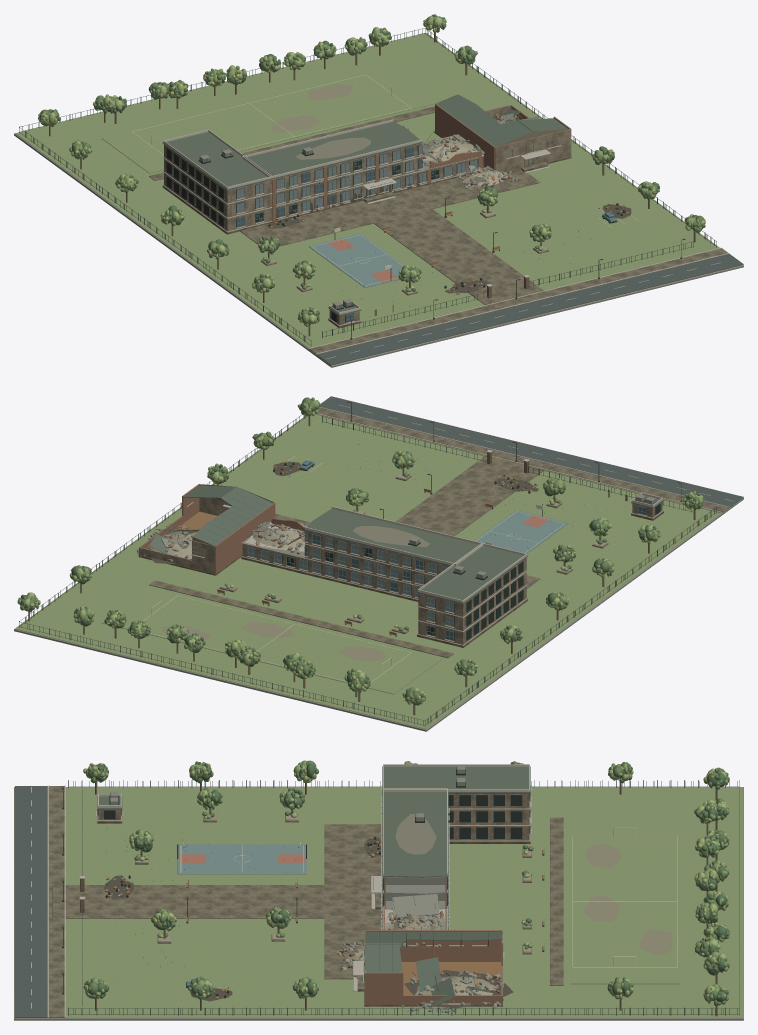
Rendered from school-abandoned.glb.
3 renders of one model, top to bottom at view 1: azimuth 30°, elevation 25°; view 2: azimuth 150°, elevation 25°; view 3: azimuth 270°, elevation 25°, orthographic. The views are drawn at different scales.
Visible parts, largest first — view 1: 材质批次_grass, 材质批次_plaza_paving, 材质批次_sage_metal_roof, 材质批次_limestone, 材质批次_asphalt, 材质批次_warm_cream_trim, 材质批次_poi_service_concrete, 材质批次_street_metal, 材质批次_leaf_2, 材质批次_leaf_0, 材质批次_leaf_1, 材质批次_recess_shadow (+13 smaller); view 2: 材质批次_grass, 材质批次_plaza_paving, 材质批次_sage_metal_roof, 材质批次_limestone, 材质批次_asphalt, 材质批次_warm_cream_trim, 材质批次_street_metal, 材质批次_poi_service_concrete, 材质批次_leaf_1, 材质批次_leaf_2, 材质批次_leaf_0, 材质批次_recess_shadow (+14 smaller); view 3: 材质批次_grass, 材质批次_plaza_paving, 材质批次_sage_metal_roof, 材质批次_poi_service_concrete, 材质批次_asphalt, 材质批次_poi_brick_red, 材质批次_warm_cream_trim, 材质批次_street_metal, 材质批次_leaf_1, 材质批次_leaf_3, 材质批次_school_court, 材质批次_limestone (+12 smaller).
Part boxes in pixels (x1,y1,x2,y2): 材质批次_grass: (15,33,719,348); 材质批次_plaza_paving: (149,106,727,353); 材质批次_sage_metal_roof: (162,94,567,315); 材质批次_limestone: (164,94,570,325); 材质批次_asphalt: (317,253,743,365); 材质批次_warm_cream_trim: (163,119,729,354); 材质批次_poi_service_concrete: (14,33,743,367); 材质批次_street_metal: (19,27,716,346); 材质批次_leaf_2: (38,16,704,326); 材质批次_leaf_0: (38,16,705,324); 材质批次_leaf_1: (38,14,705,325); 材质批次_recess_shadow: (166,144,620,322); 材质批次_grass: (15,414,720,729); 材质批次_plaza_paving: (149,407,728,658); 材质批次_sage_metal_roof: (148,485,663,603); 材质批次_limestone: (139,475,662,644); 材质批次_asphalt: (320,396,743,507); 材质批次_warm_cream_trim: (187,407,729,645); 材质批次_street_metal: (19,401,716,726); 材质批次_poi_service_concrete: (14,417,743,731); 材质批次_leaf_1: (17,397,701,704); 材质批次_leaf_2: (18,397,703,704); 材质批次_leaf_0: (20,400,703,705); 材质批次_recess_shadow: (248,463,660,640); 材质批次_grass: (48,787,742,1017); 材质批次_plaza_paving: (49,786,563,1017); 材质批次_sage_metal_roof: (97,766,530,1006); 材质批次_poi_service_concrete: (14,765,743,1020); 材质批次_asphalt: (15,786,47,1017); 材质批次_poi_brick_red: (338,905,503,1006); 材质批次_warm_cream_trim: (47,764,531,1017); 材质批次_street_metal: (62,767,739,1015); 材质批次_leaf_1: (83,760,729,1006); 材质批次_leaf_3: (89,761,729,1005); 材质批次_school_court: (177,844,306,874); 材质批次_limestone: (98,793,531,1004).
Bounding box in the file's own units: 122 × 14.55 × 160.
36 materials, 5 textured.
